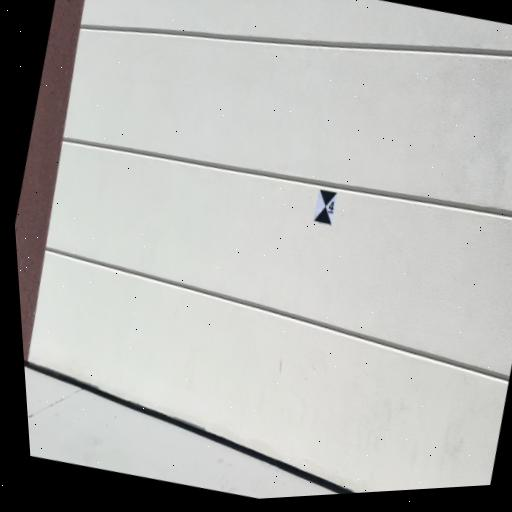target4: (311, 188, 340, 226)
